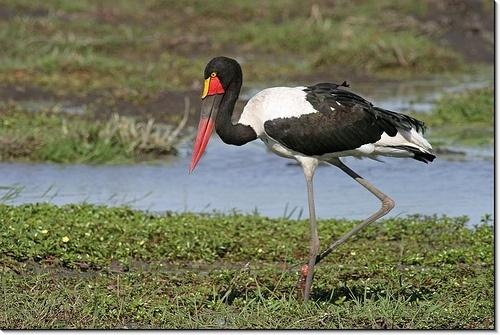bird: (190, 56, 439, 300)
